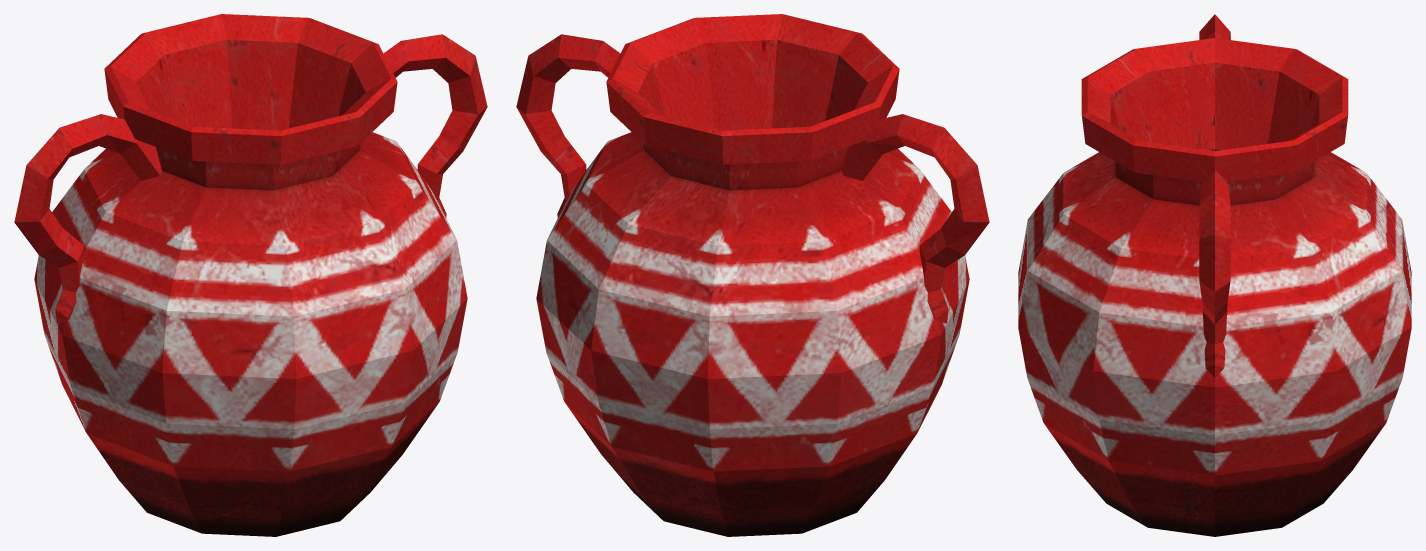
Rendered from Red_Pot_259.obj.
3 views of the same model, side by side, from view 1: azimuth 30°, elevation 25°; view 2: azimuth 150°, elevation 25°; view 3: azimuth 270°, elevation 25° (orthographic). The views are drawn at different scales.
Visible parts, largest first — view 1: Red_Pot_259_259; view 2: Red_Pot_259_259; view 3: Red_Pot_259_259.
Boxes of the visible parts, bbox=[...] form: Red_Pot_259_259: bbox=[14, 14, 487, 536]; Red_Pot_259_259: bbox=[516, 14, 989, 536]; Red_Pot_259_259: bbox=[1018, 14, 1411, 536].
Bounding box in the file's own units: 0.4015 × 0.3364 × 0.3044.
1 material, 1 textured.
